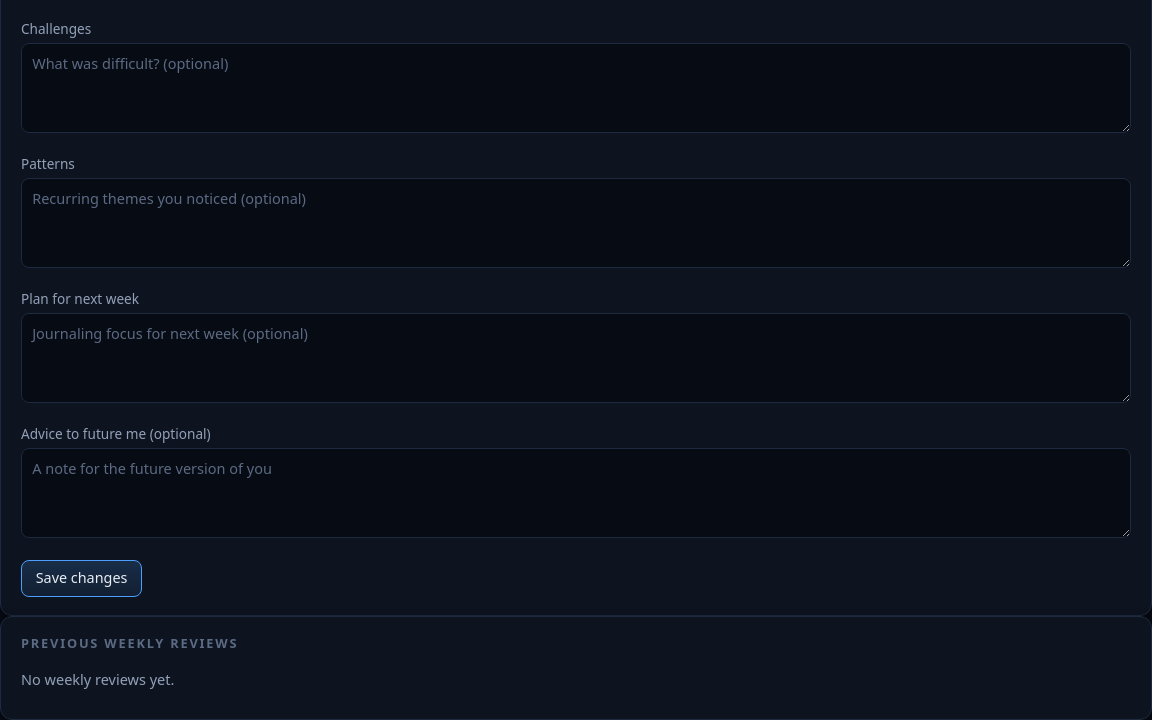
Test: WeeklyReviewPage › edits without any XP celebration (backend PATCH returns no XP fields)
(page scrolled)
Click the button "Save changes" at (82, 578), box [21,560,142,597]
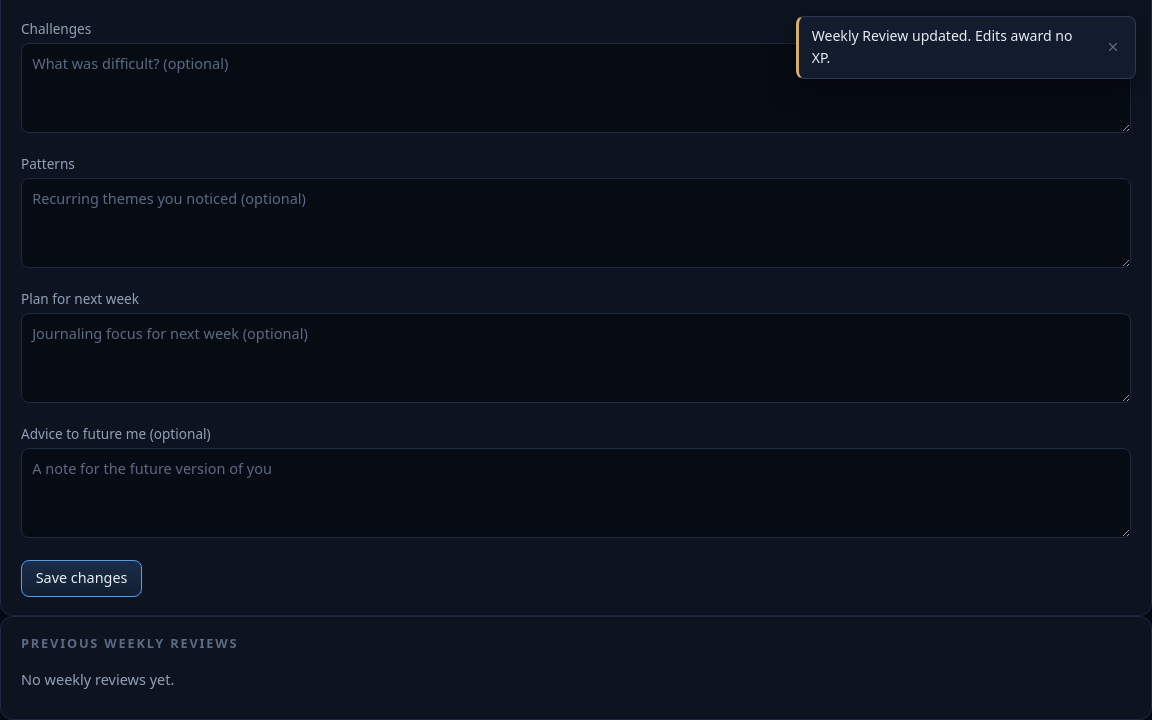
expect the text "Weekly Review updated. Edits award no XP." is shown: met, box [812,25,1092,69]
